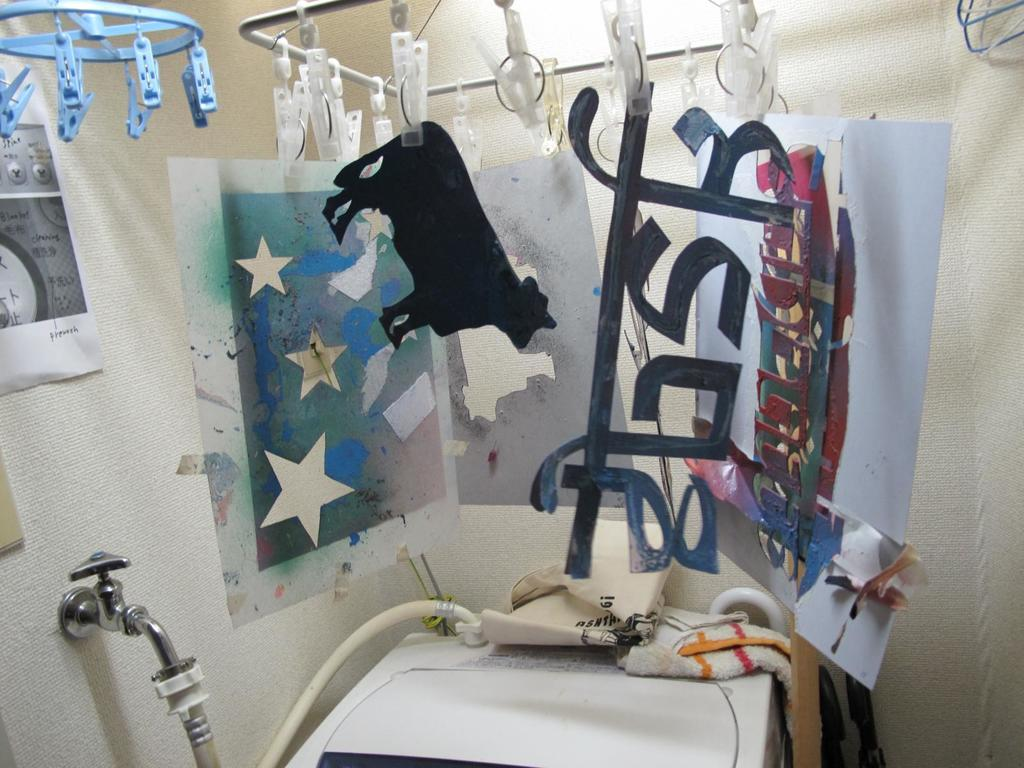tap: (49, 543, 200, 687)
